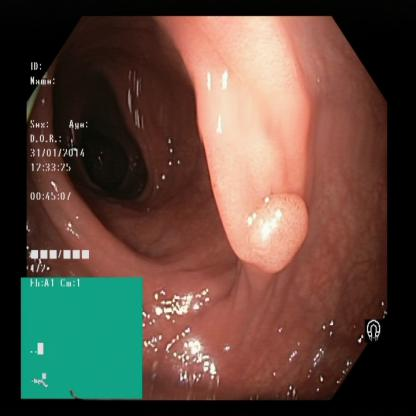Labels: (23, 56, 102, 274), (18, 274, 145, 396)
Polyps: (224, 184, 320, 285)
